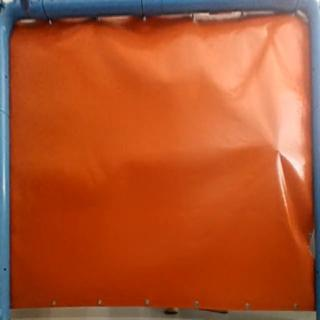Hit-hRxx: (270, 144, 286, 160)
